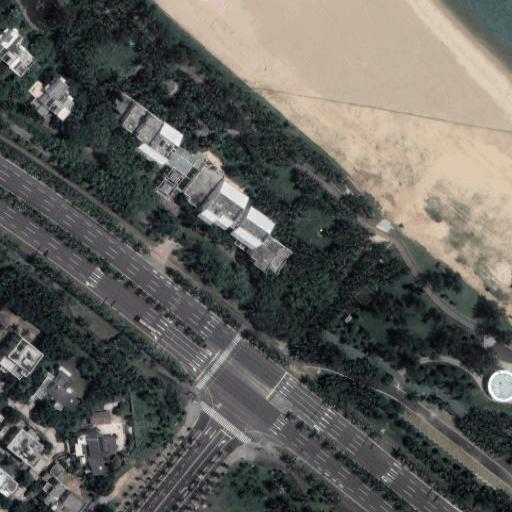building: (109, 93, 229, 209), (196, 177, 252, 233), (28, 73, 79, 122), (229, 203, 276, 251), (34, 368, 78, 413), (251, 232, 294, 275), (75, 435, 117, 475), (7, 428, 47, 467), (41, 483, 86, 512), (489, 371, 512, 402), (0, 468, 18, 498), (90, 410, 111, 425), (49, 463, 65, 479)
